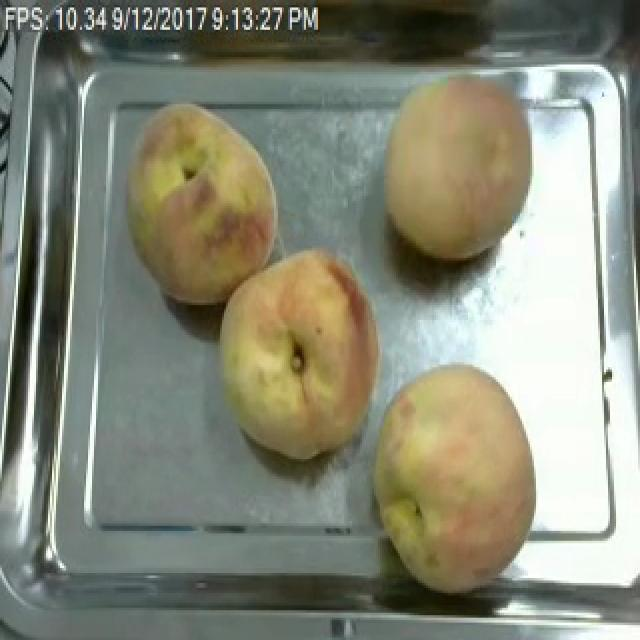Fruit: (360, 357, 544, 603), (208, 241, 394, 466), (108, 94, 290, 313), (372, 62, 544, 270)
